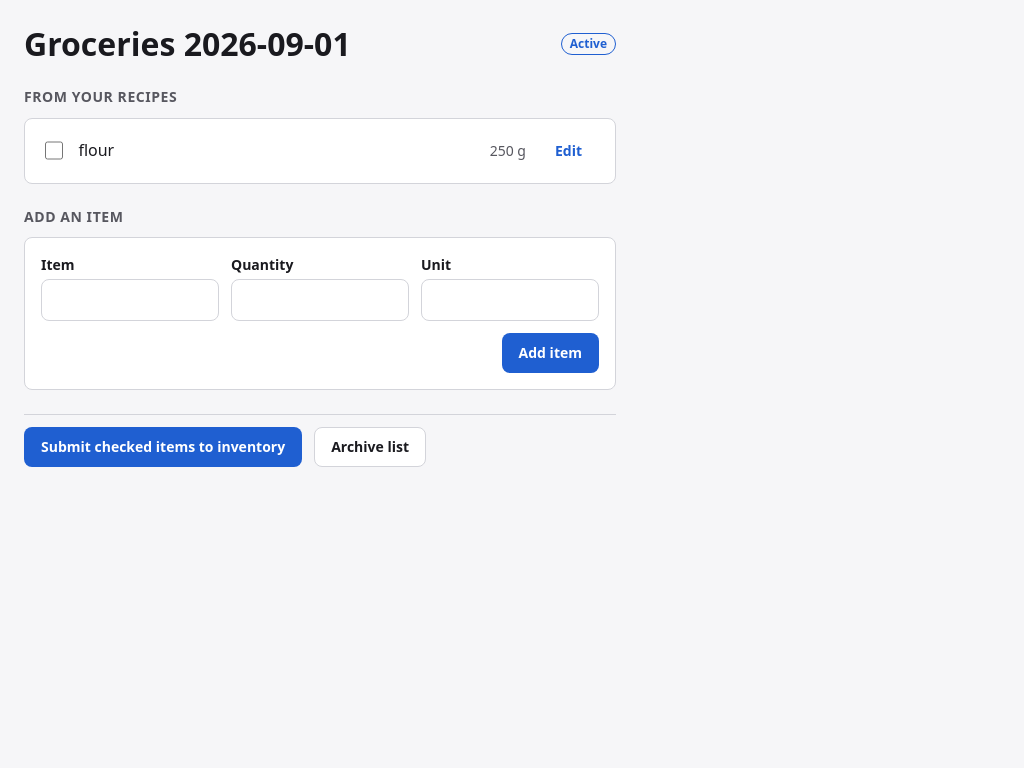
Scenario: GroceryListDetail › edits a generated line's quantity, sending quantity+unit together, and shows the reclassify note
The image size is (1024, 768).
Expected: the text "flour" is shown, [78,138,114,162]
Click the button with aria-label "Edit flour" at (568, 150), box [538,130,599,170]
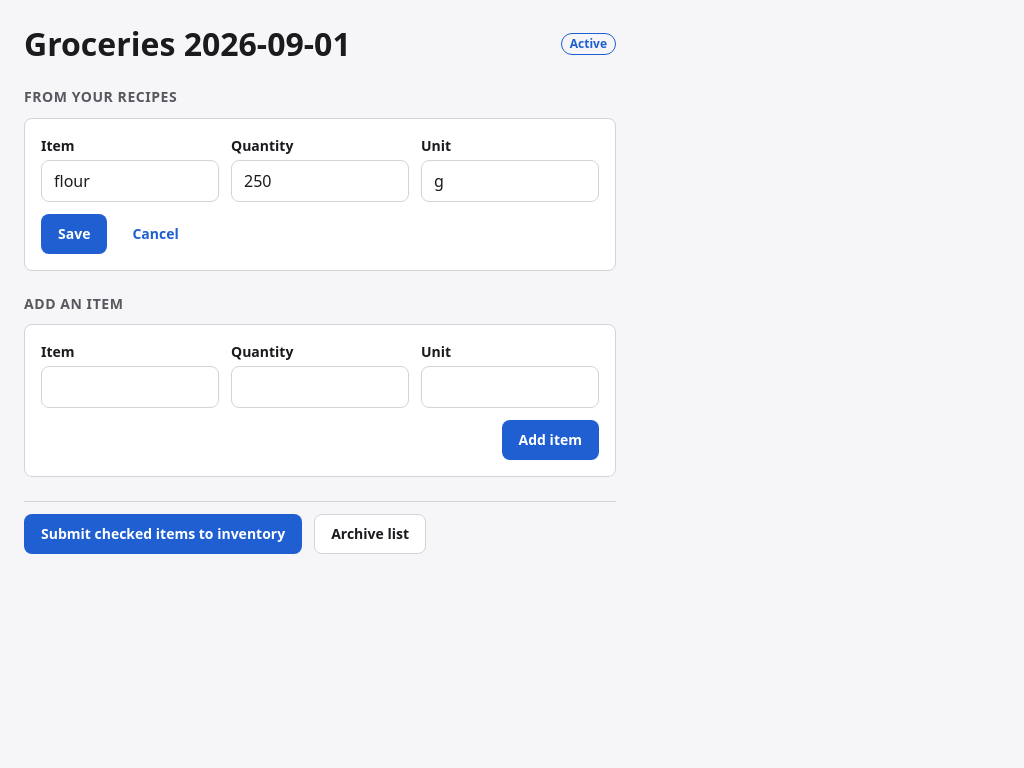
Replace the text in the number field labelled "Quantity" below "From your recipes" with "500" at (320, 180), box [231,160,409,202]
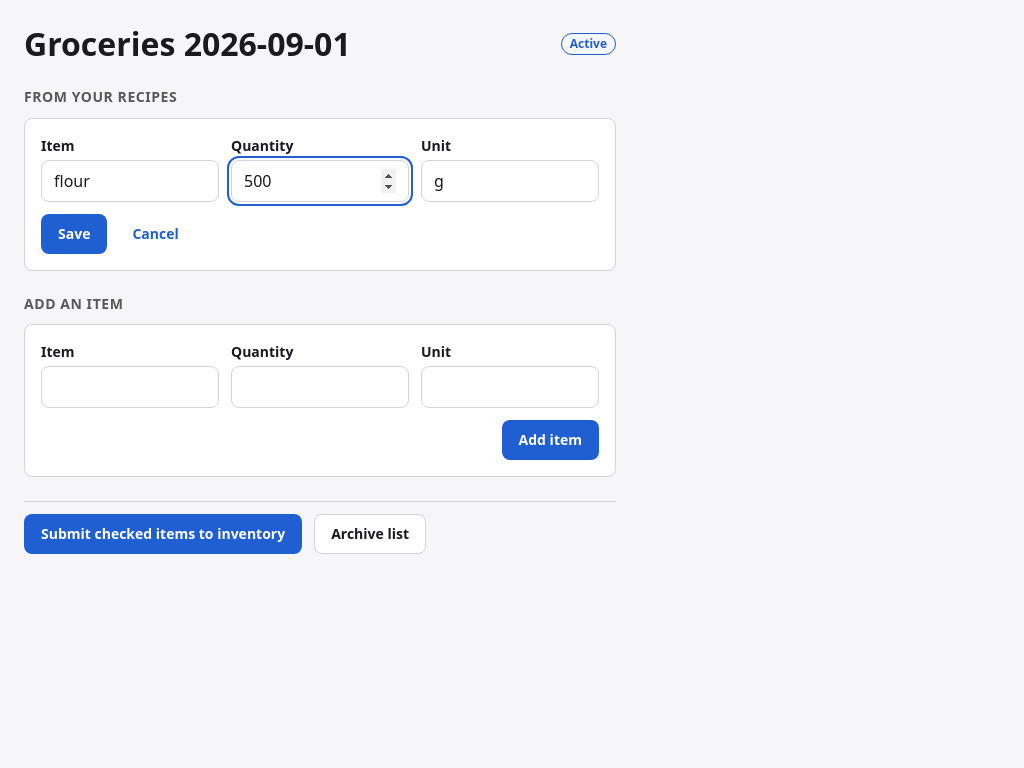
Click the button "Save" at (74, 234), box [41,214,107,254]
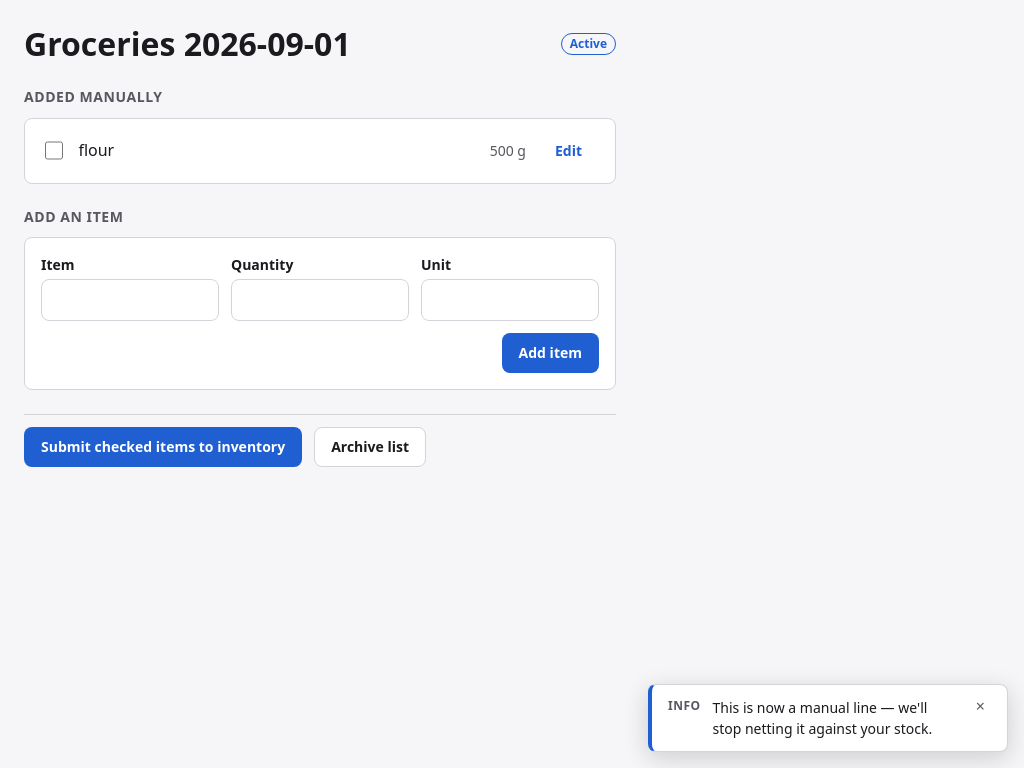
Result: the text "This is now a manual line — we'll stop netting it against your stock." is shown at [712,697,958,739]
